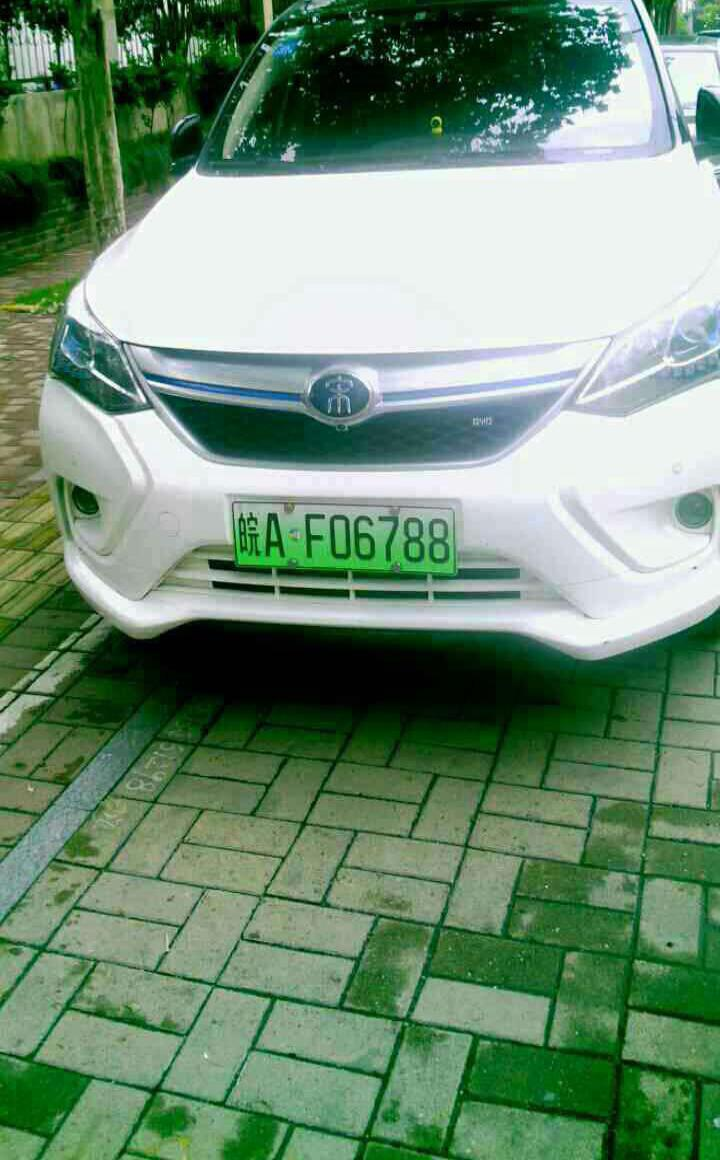car: (224, 490, 472, 586)
